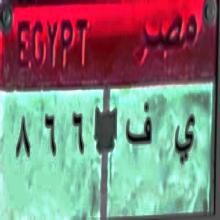6: (40, 105, 60, 171), (68, 104, 88, 164)
8: (12, 108, 35, 175)
faa: (122, 100, 155, 163)
yaa: (171, 105, 199, 174)
